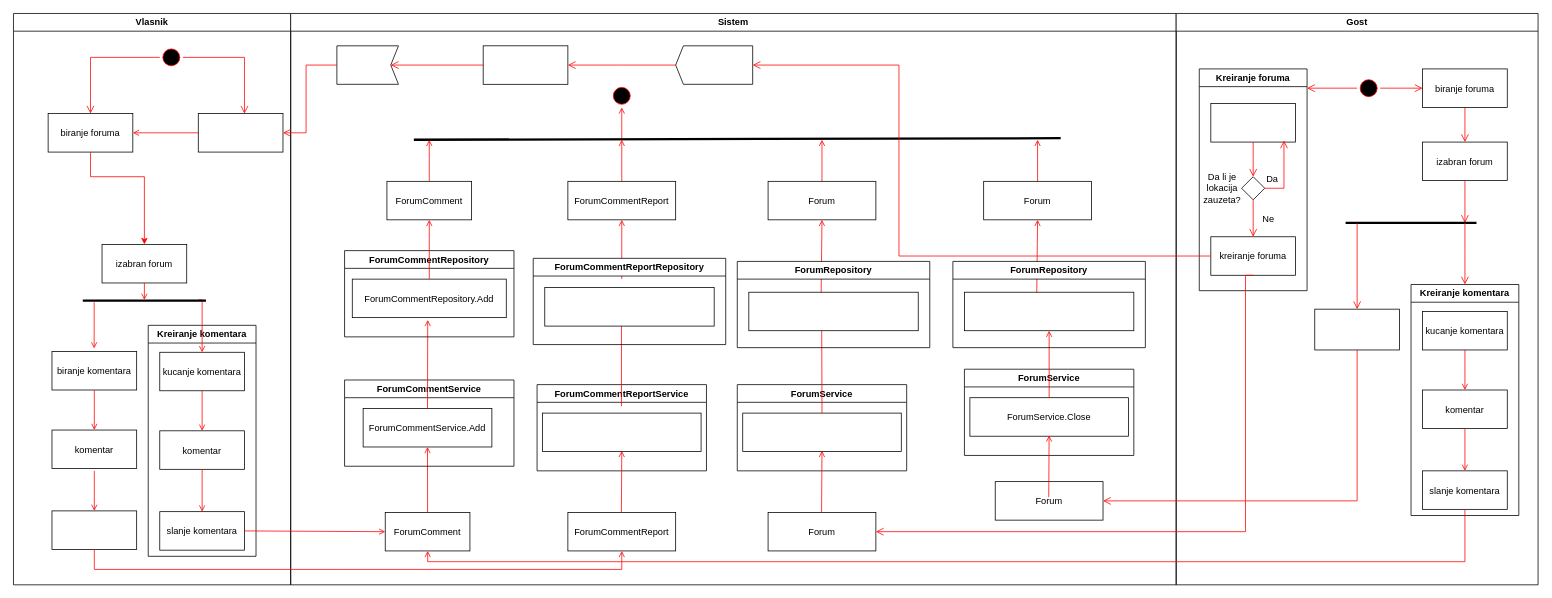
Image size: 1552x598. Some labels were removed from this diagram. The shapes that lost their labels are listed below. From the top down, each one's centre as x and y in pixels, then its label:
At (367,64): "Primanje obavestenja".
At (525,64): "Novi forum otvoren".
At (714,64): "Slanje obavestenja".
At (240,132): "citanje obavestenja".
At (1253,122): "kucanje prvog komentara i lokacije".
At (629,306): "ForumCommentReportRepository.Add".
At (833,311): "ForumRepository.Add".
At (1049,311): "ForumRepository.Close".
At (1356,329): "zatvaranje foruma".
At (621,432): "ForumCommentReportService.Add".
At (821,432): "ForumService.Add".
At (94,529): "report dugme".
